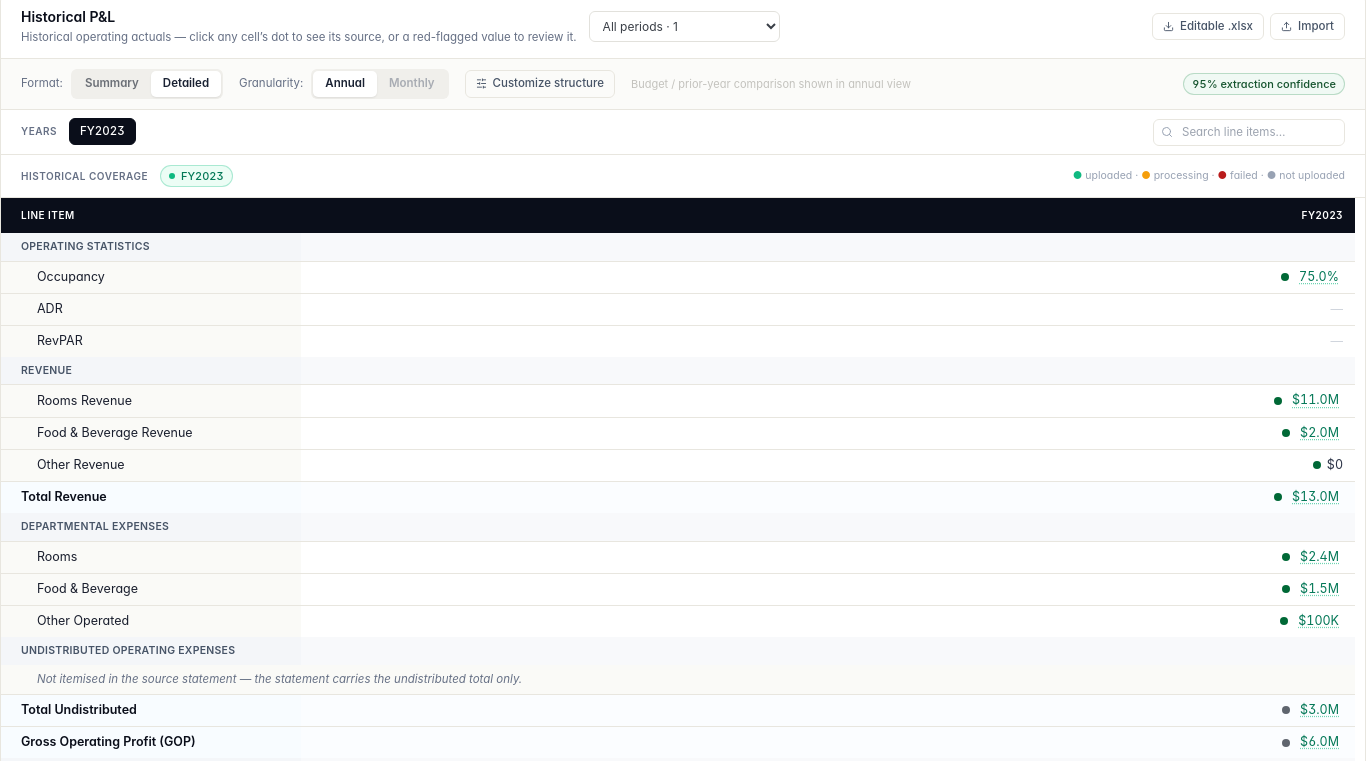
Test: Historicals worksheet — a $5 Rooms Revenue correction flows through (E-012) › the footing check shows the $5 the worker did not re-foot — in the note and in the grid
Click the button named "Extracted — click to see its source" at (1316, 401), box [1288,391,1343,410]
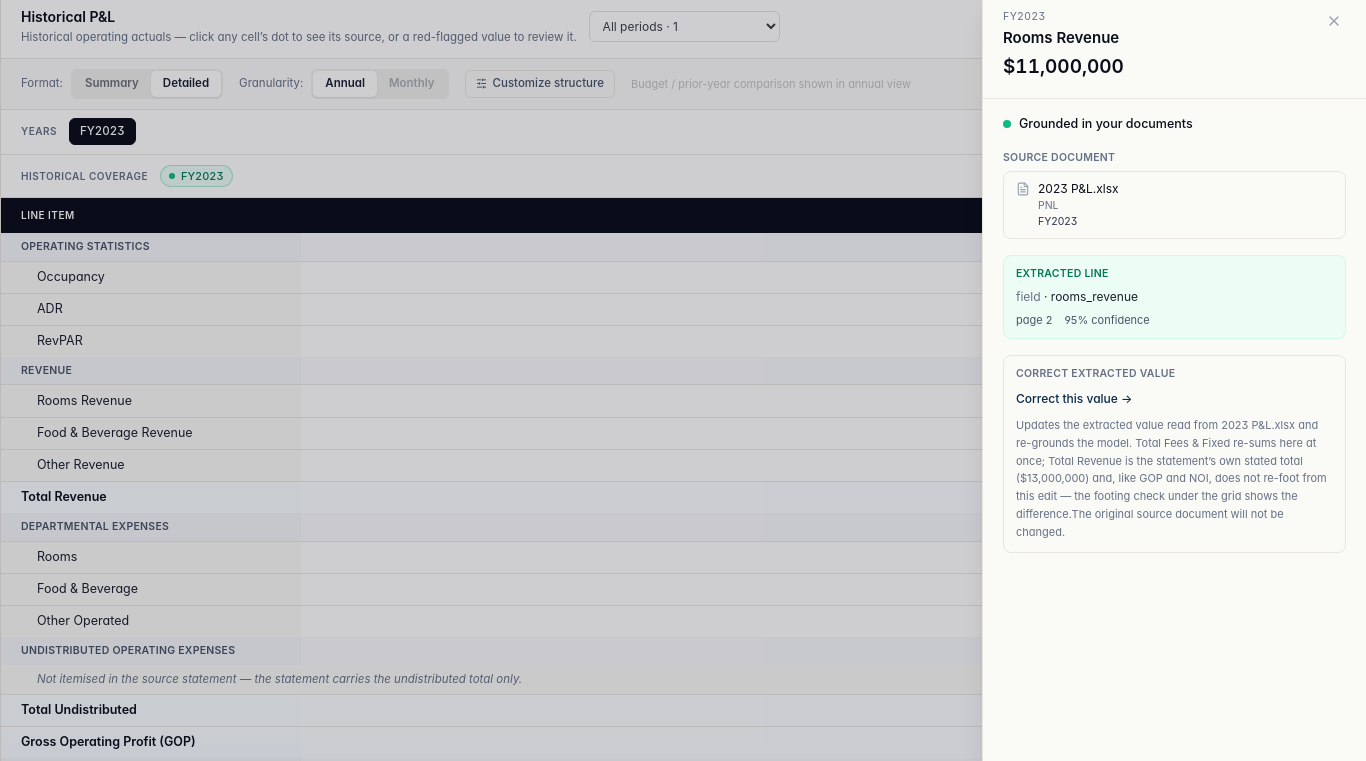
Click the button "Correct this value →" at (1074, 399), box [1016,390,1132,408]
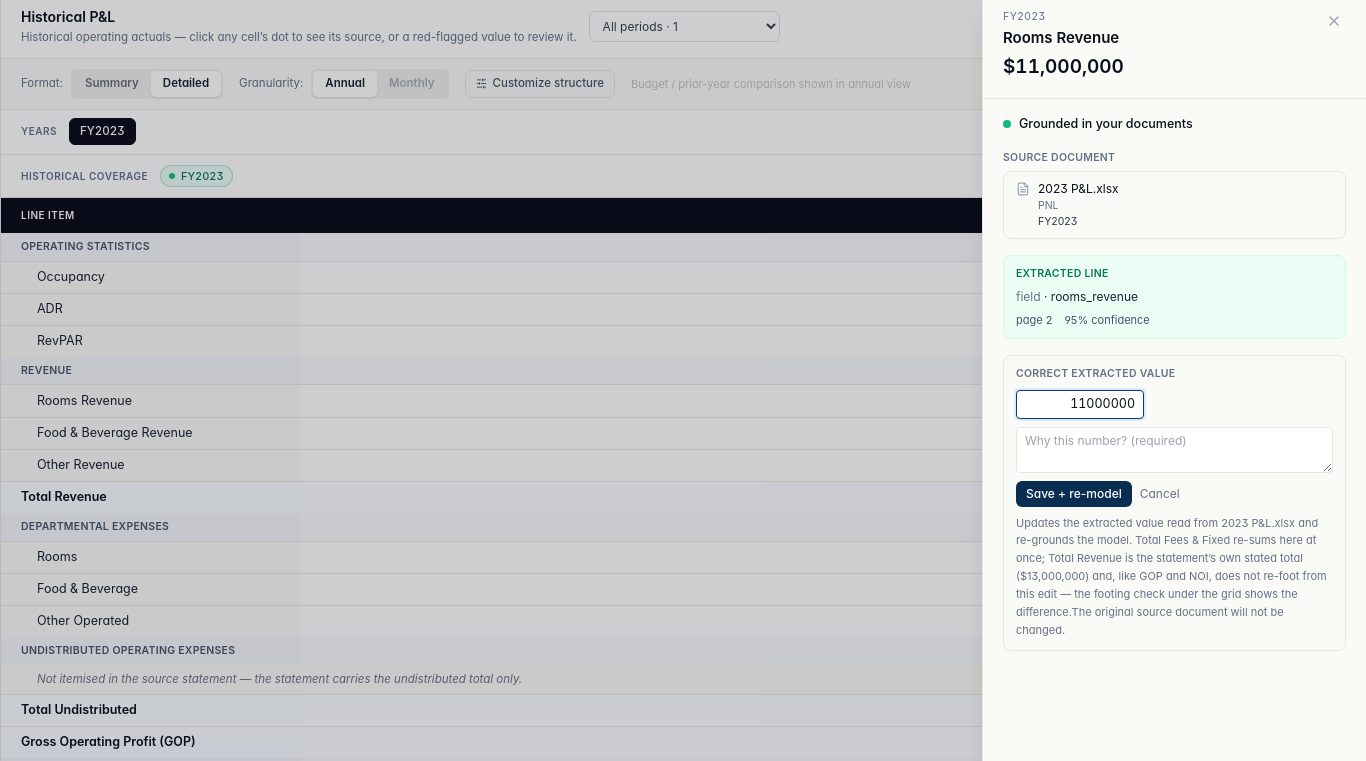
Replace the text in the field with "11000005" at (1080, 404), box [1016,390,1144,419]
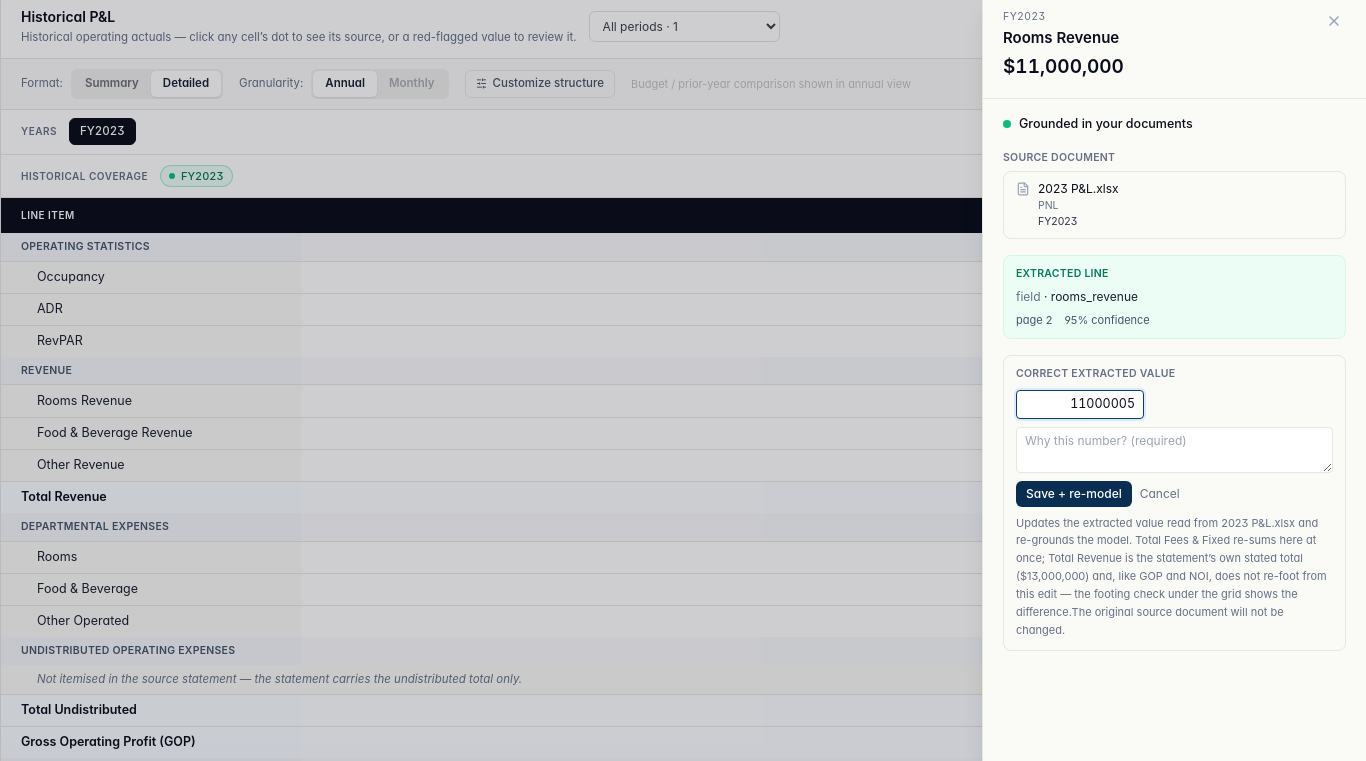
Type "Ledger shows the restated figure" into the text box with test id "field-correction-note" at (1174, 450), box [1016,426,1333,472]
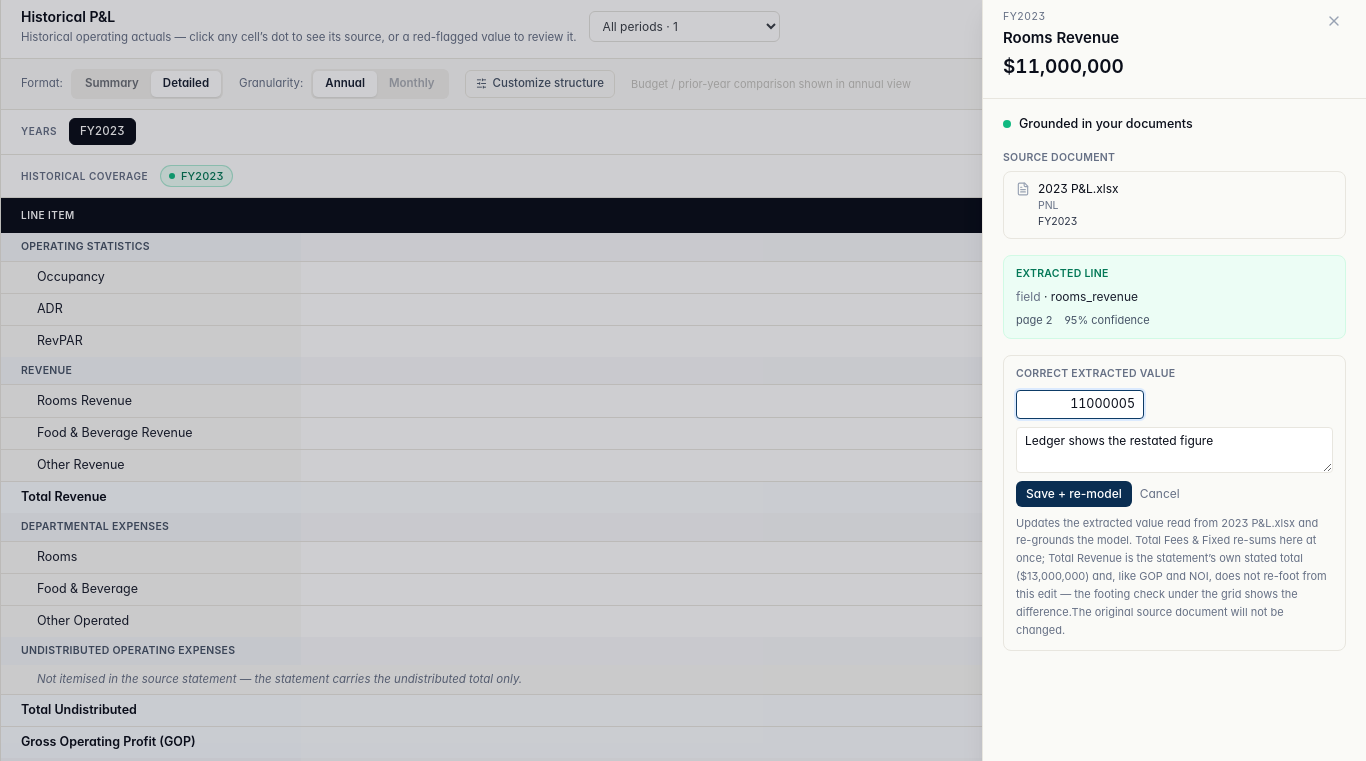
Click the button "Save + re-model" at (1074, 494), box [1016,480,1132,506]
(page scrolled)
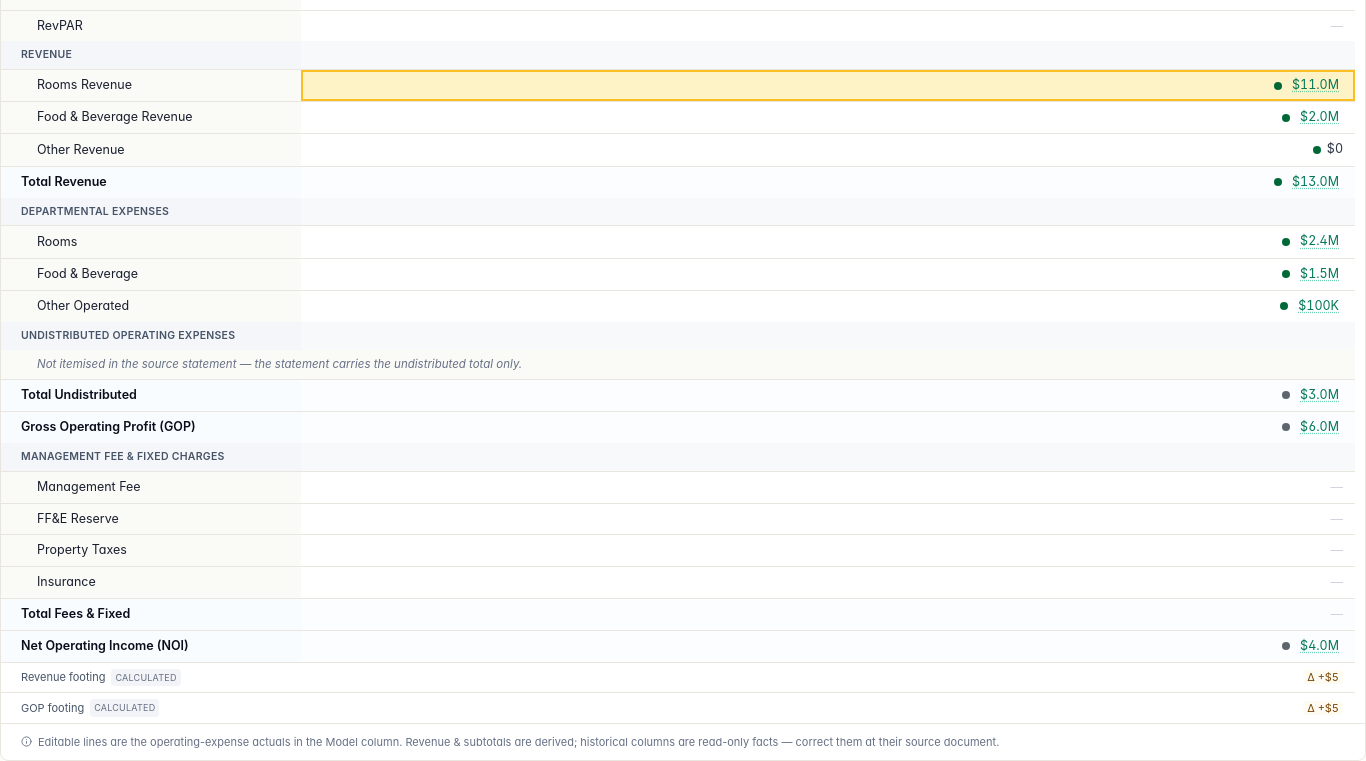
Expected: the text "calculated" next to "Revenue footing" is shown, [116,672,177,683]
Expected: the text "Δ +$5" in the row of "Revenue footing" is shown, [1307,670,1339,684]
